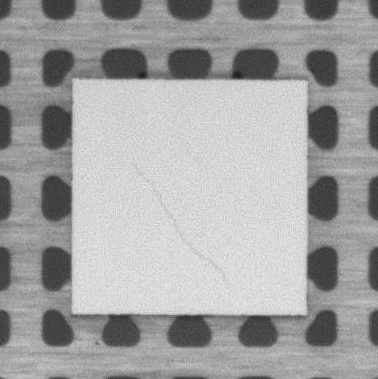DIE_CRACK: (134, 163, 230, 285)
